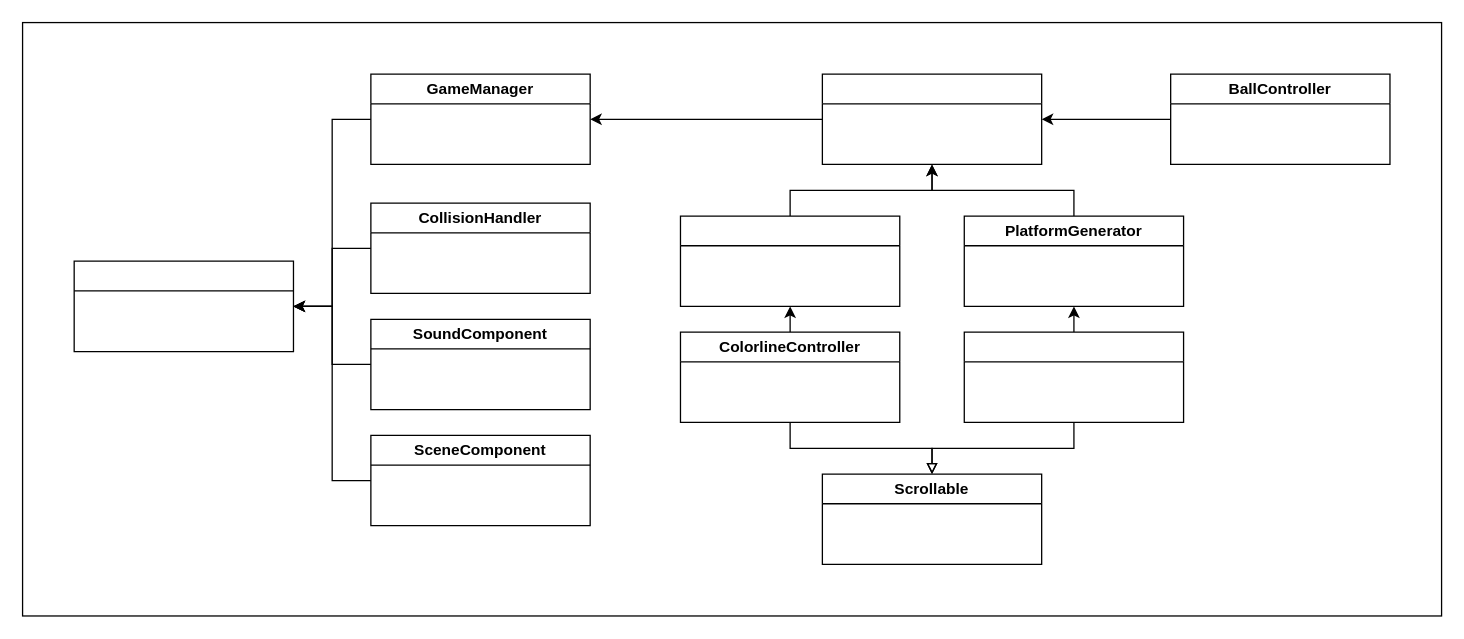
Image size: 1464x639. Some labels were removed from this diagram. Here are the shapes that lost their labels. From the top down, the centre of each, then its label:
At [931,118]: "Factory".
At [789,260]: "ColorlineGenerator".
At [183,306]: "DeadlyColors".
At [1073,376]: "PlatformController".
